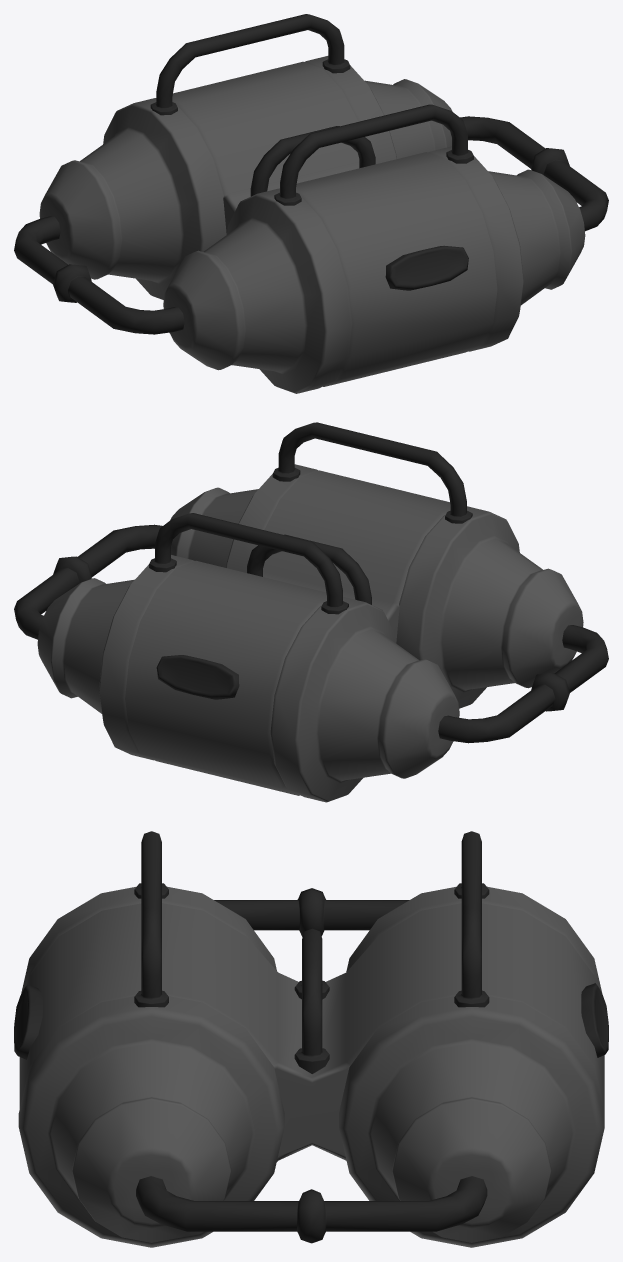
The model's file is _Small_fuel_tank.fbx.
3 renders of one model, top to bottom at view 1: azimuth 30°, elevation 25°; view 2: azimuth 150°, elevation 25°; view 3: azimuth 270°, elevation 25°, orthographic. The views are drawn at different scales.
Visible parts, largest first — view 1: Small_fuel_tank; view 2: Small_fuel_tank; view 3: Small_fuel_tank.
Part boxes in pixels (box(x1,y1,x2,y2)): Small_fuel_tank: box(14, 14, 608, 393); Small_fuel_tank: box(14, 422, 608, 802); Small_fuel_tank: box(14, 831, 608, 1247).
Bounding box in the file's own units: 330 × 150 × 256.
Materials: 1 (1 with a texture image).
